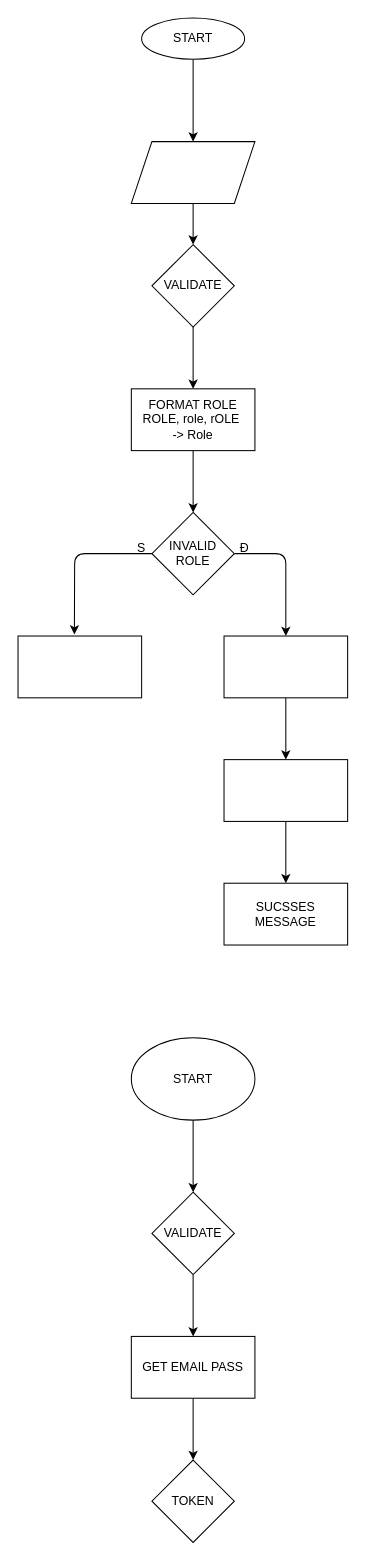
This 366x1560 diagram has some shape labels left out. The centre of each missing label's shape, as x and y in pixels:
"CREATE RECORD model_has_roles" goes at point 285,790.
"CREATE USER" goes at point 285,666.
"error message" goes at point 79,666.
"USER REQUEST" goes at point 192,172.
